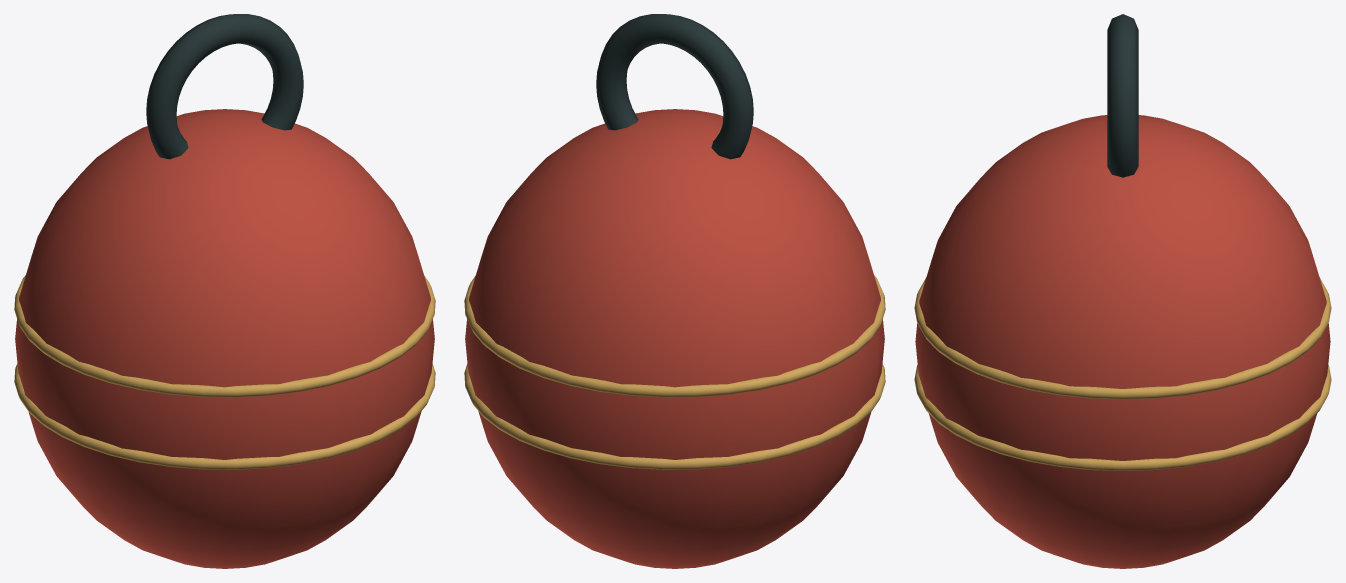
Rendered from wp-lampion-de-fete.glb.
3 views of the same model, side by side, from view 1: azimuth 30°, elevation 25°; view 2: azimuth 150°, elevation 25°; view 3: azimuth 270°, elevation 25° (orthographic).
Visible parts, largest first — view 1: wp-lampion-de-fete; view 2: wp-lampion-de-fete; view 3: wp-lampion-de-fete.
Part boxes in pixels (x1,y1,x2,y2): wp-lampion-de-fete: (14,14,435,568); wp-lampion-de-fete: (464,14,885,568); wp-lampion-de-fete: (914,14,1331,568).
Size of the model in its own units: 0.25 by 0.35 by 0.25.
